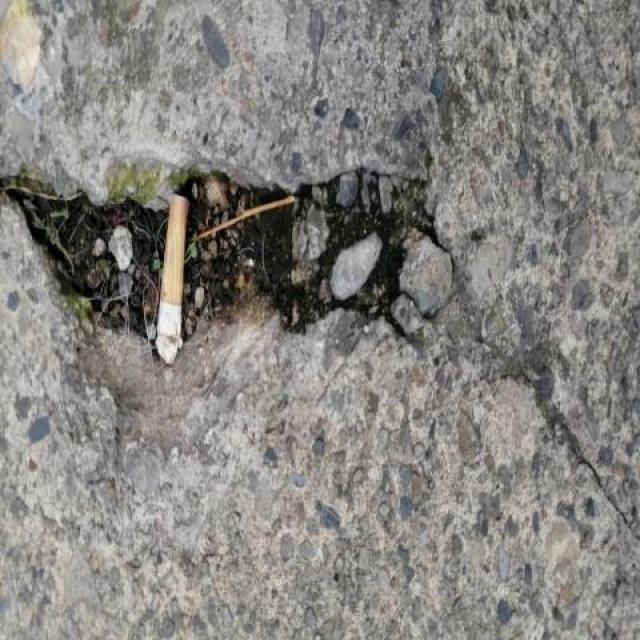non-organic waste: (155, 190, 196, 343)
